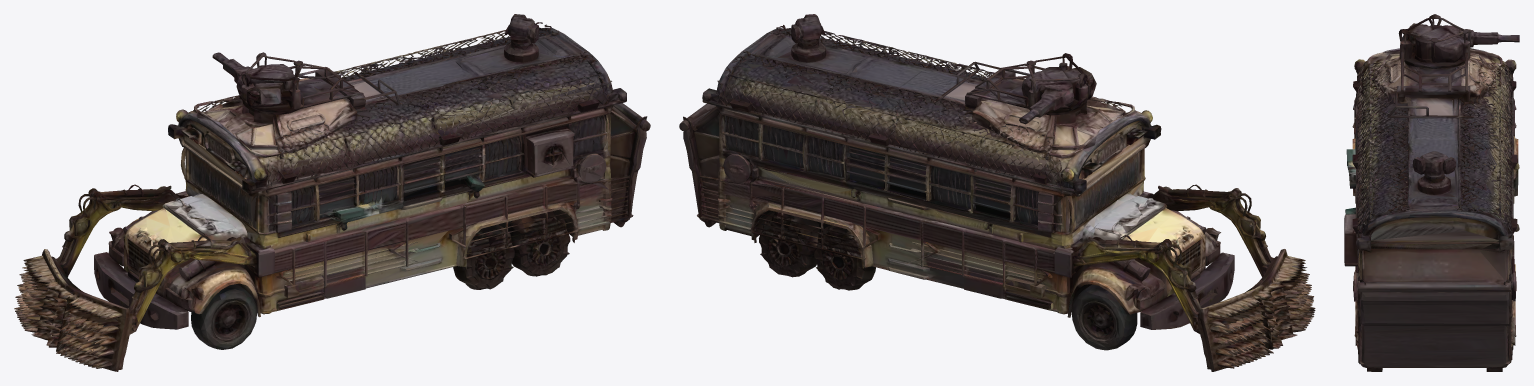
The model's file is crashed-car-02.glb.
3 views of the same model, side by side, from view 1: azimuth 30°, elevation 25°; view 2: azimuth 150°, elevation 25°; view 3: azimuth 270°, elevation 25° (orthographic). The views are drawn at different scales.
Parts seen in each view (by area): view 1: material; view 2: material; view 3: material.
Boxes of the visible parts, x1,y1,x2,y2 form: material: (14,14,650,371); material: (679,14,1315,371); material: (1344,14,1519,371).
Bounding box in the file's own units: 1.14 × 0.4571 × 0.3187.
Materials: 1 (1 with a texture image).
